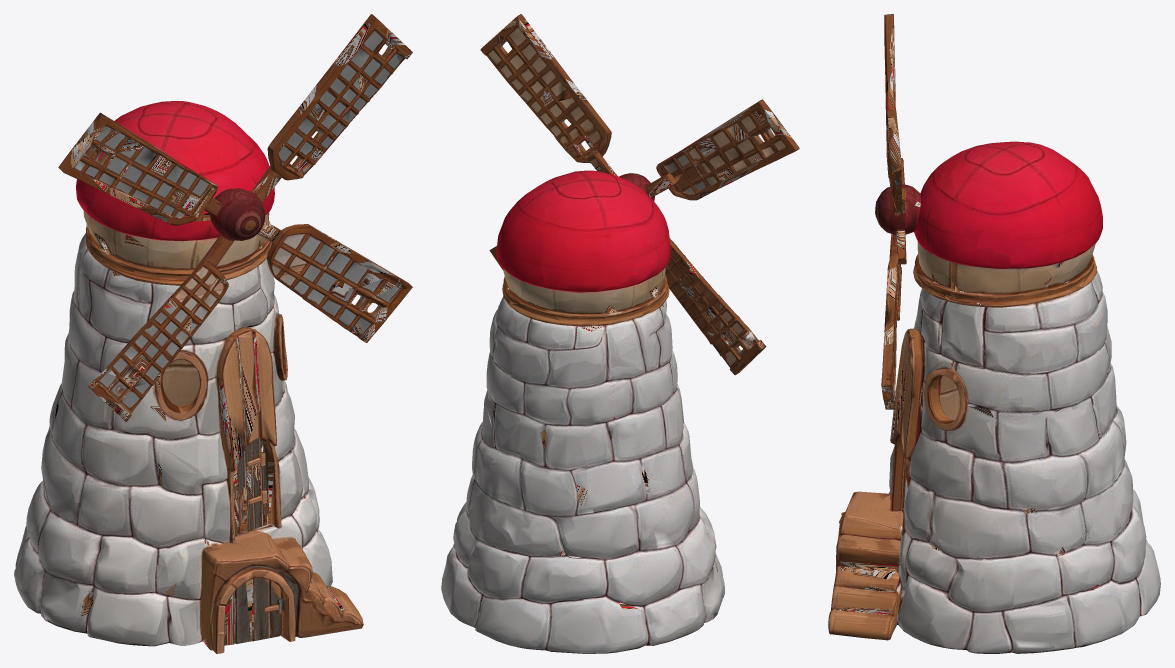
Rendered from windmill.glb.
3 views of the same model, side by side, from view 1: azimuth 30°, elevation 25°; view 2: azimuth 150°, elevation 25°; view 3: azimuth 270°, elevation 25° (orthographic). The views are drawn at different scales.
Visible parts, largest first — view 1: output_unwrapped; view 2: output_unwrapped; view 3: output_unwrapped.
Boxes of the visible parts, x1,y1,x2,y2 form: output_unwrapped: (14, 14, 412, 653); output_unwrapped: (441, 14, 799, 653); output_unwrapped: (828, 14, 1160, 653).
Size of the model in its own units: 1.22 by 1.9 by 1.05.
1 material, 1 textured.
